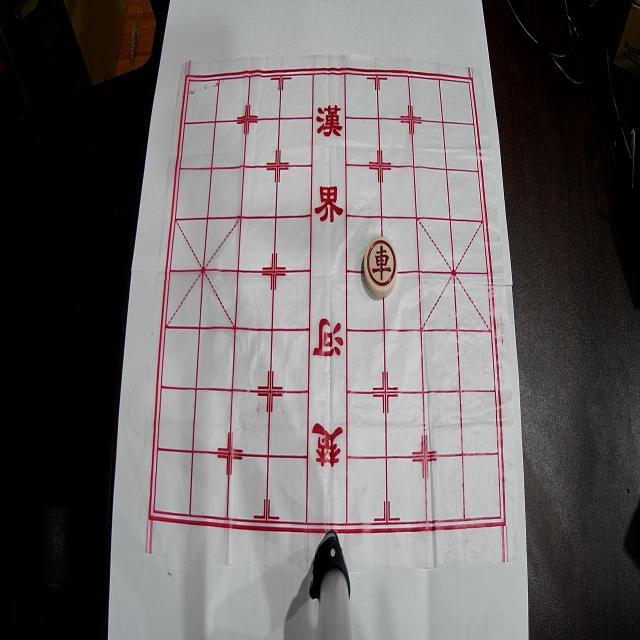red-chariot: (364, 236, 398, 298)
